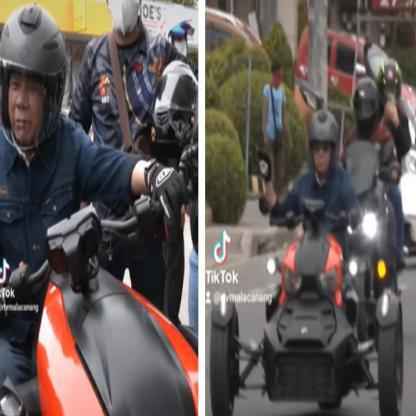helmet: (0, 3, 68, 141), (152, 59, 197, 161), (306, 110, 340, 171), (353, 83, 380, 137), (377, 58, 404, 106)
